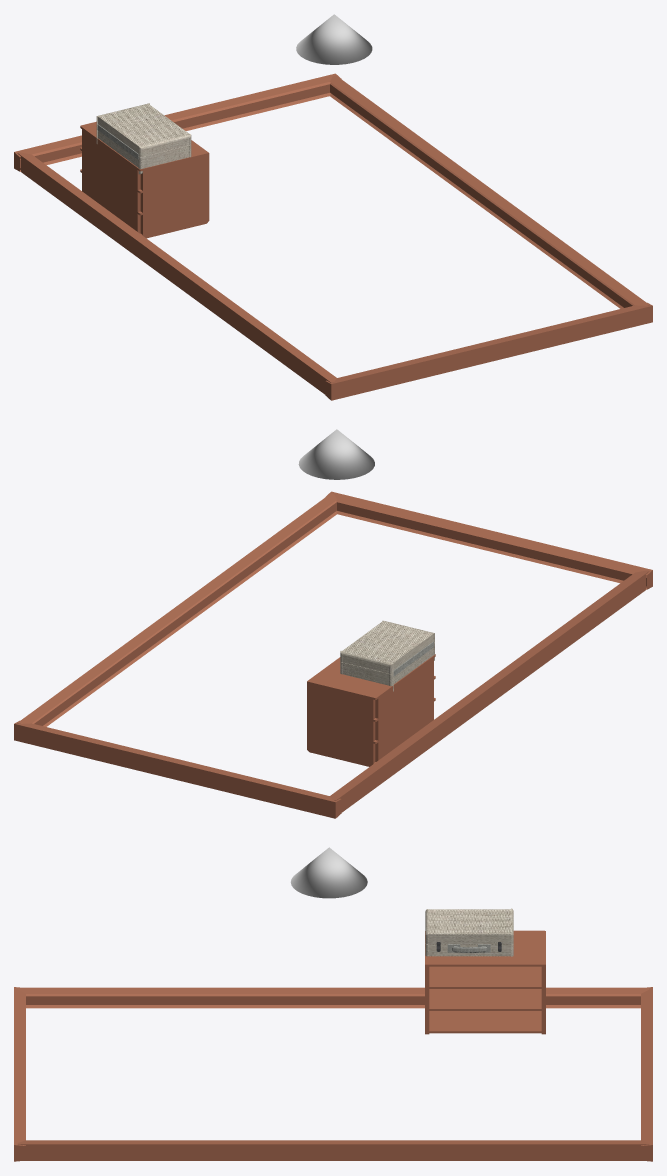
The model's file is MainRoom_fixPackage_0328.fbx.
The picture shows the model from 3 angles, top to bottom: view 1: azimuth 30°, elevation 25°; view 2: azimuth 150°, elevation 25°; view 3: azimuth 270°, elevation 25°; orthographic projection.
Visible parts, largest first — view 1: FloorBoundX.003, FloorBoundY.003, DrawerShape, Suitcase.001, LightShade, Suitcase; view 2: FloorBoundX.003, FloorBoundY.003, DrawerShape, Suitcase.001, LightShade, Suitcase; view 3: FloorBoundX.003, DrawerShape, FloorBoundY.003, Suitcase.001, LightShade, Suitcase.
Part boxes in pixels (box(x1,y1,x2,y2)): FloorBoundX.003: box(17, 75, 649, 394); FloorBoundY.003: box(14, 73, 652, 400); DrawerShape: box(80, 121, 209, 238); Suitcase.001: box(96, 103, 191, 156); LightShade: box(296, 14, 372, 64); Suitcase: box(96, 124, 191, 174); FloorBoundX.003: box(17, 493, 649, 812); FloorBoundY.003: box(14, 491, 652, 818); DrawerShape: box(307, 654, 435, 766); Suitcase.001: box(340, 620, 434, 673); LightShade: box(298, 429, 374, 479); Suitcase: box(340, 641, 434, 691); FloorBoundX.003: box(17, 987, 649, 1160); DrawerShape: box(425, 930, 545, 1034); FloorBoundY.003: box(14, 987, 652, 1161); Suitcase.001: box(425, 908, 513, 949); LightShade: box(290, 847, 367, 898); Suitcase: box(425, 944, 513, 956).
Size of the model in its own units: 301 by 208 by 514.
